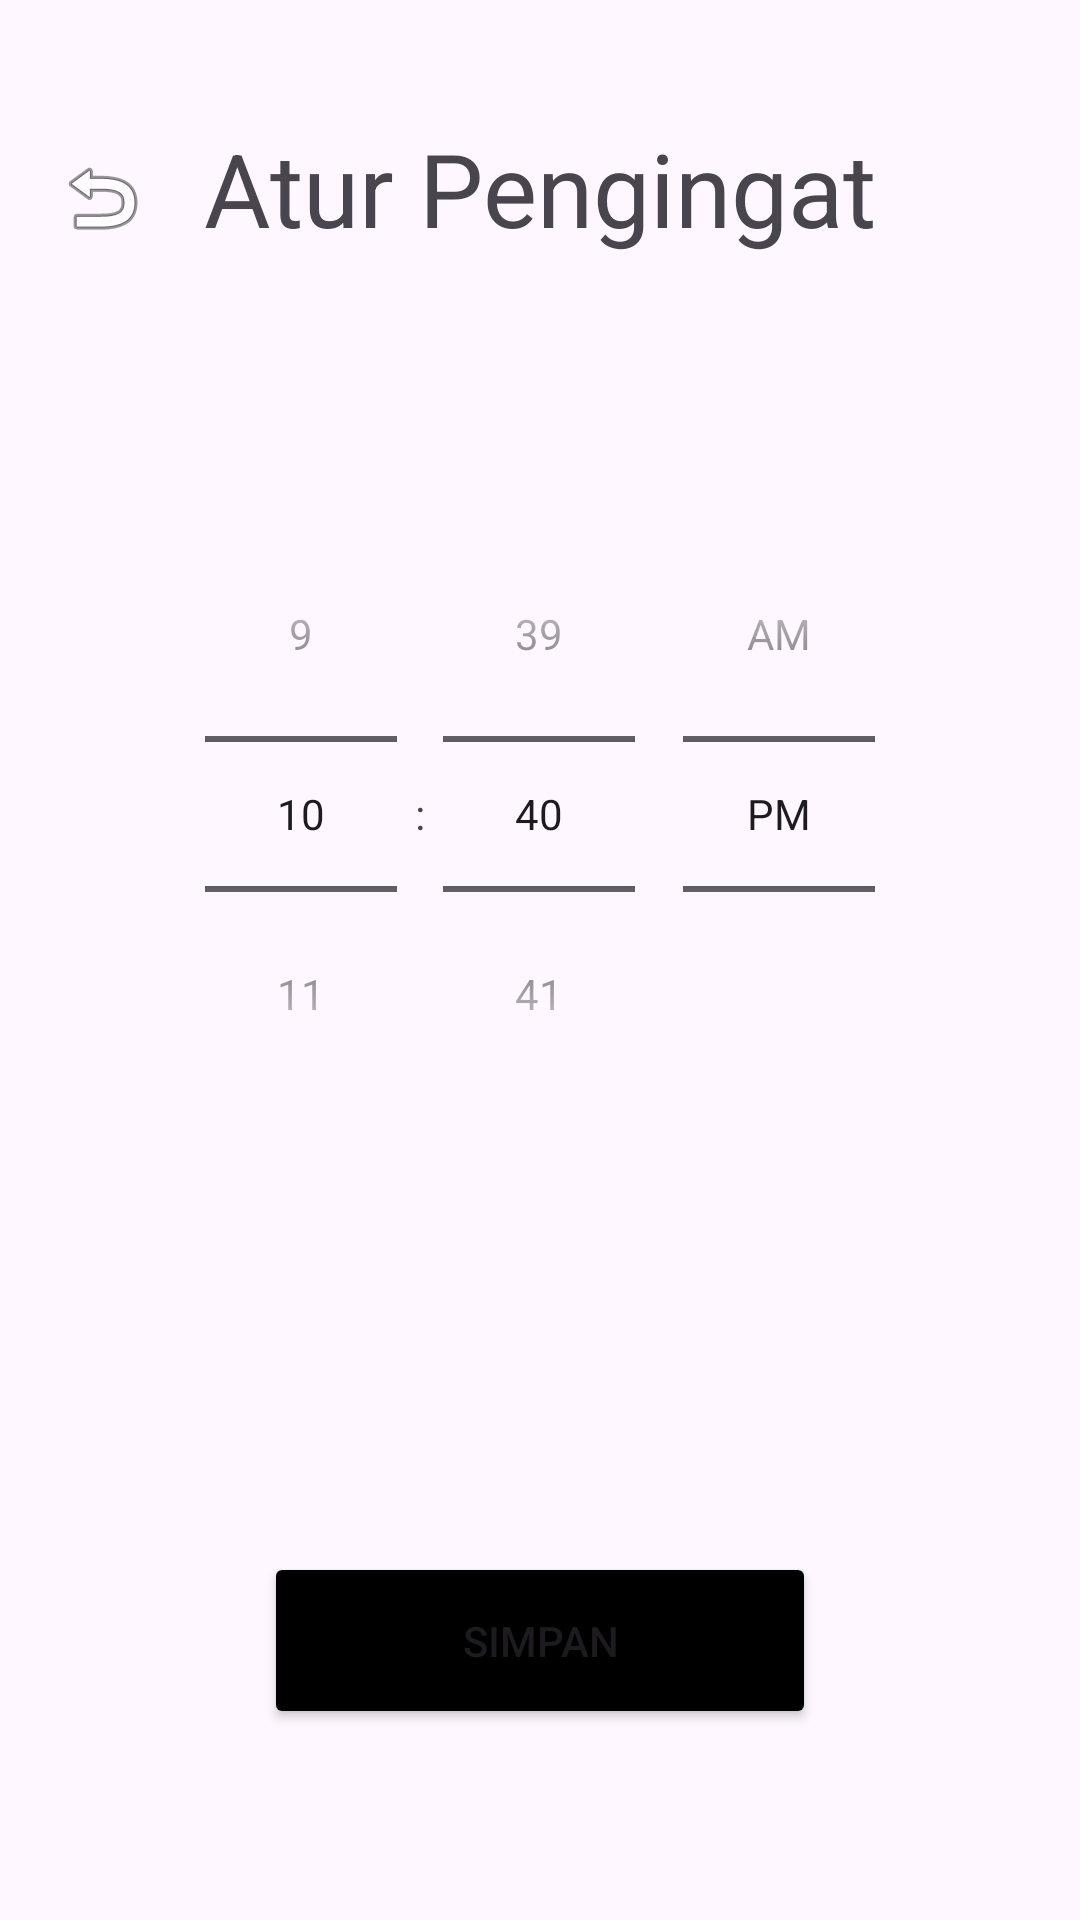

Icon bounding boxes for this 1080x1920 phone screenshot, format (x1, y1, x2, y2):
revert: (69, 167, 138, 230)
